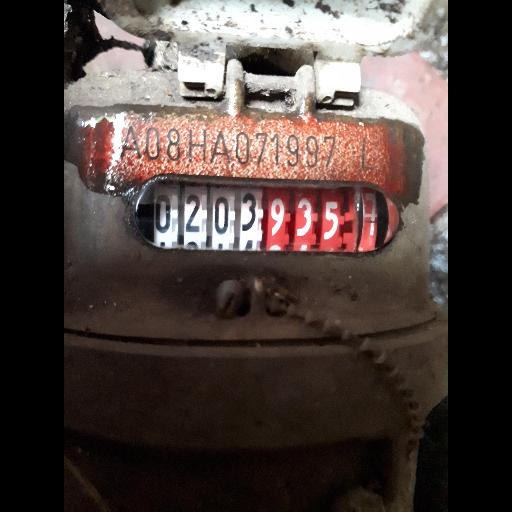0: (151, 182, 176, 248), (211, 185, 234, 251)
2: (180, 183, 207, 251)
3: (293, 188, 318, 253), (237, 184, 261, 250)
5: (317, 187, 343, 252)
7: (362, 187, 383, 252)
9: (267, 186, 290, 251)
border_water_meter_number: (134, 179, 401, 253)
